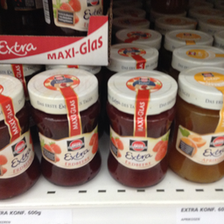jam: (27, 67, 102, 187), (107, 69, 177, 189), (171, 67, 224, 183), (1, 74, 40, 200)
